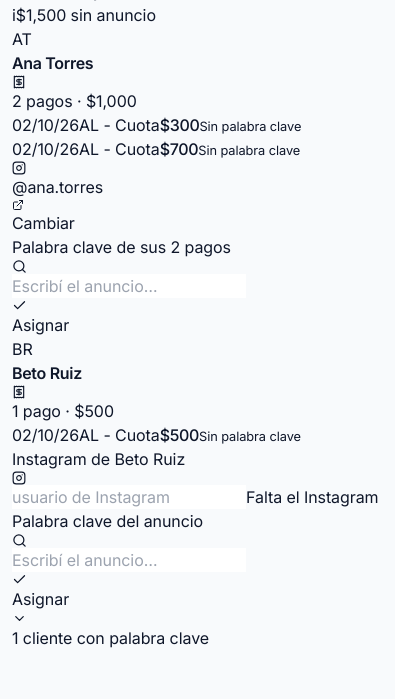
Test: Mis agendas › Ventas sin palabra clave › una palabra clave equivocada se cambia desde la lista de las que ya tienen
Click the button "1 cliente con palabra clave".
click(110, 630)  # box [12, 611, 209, 650]
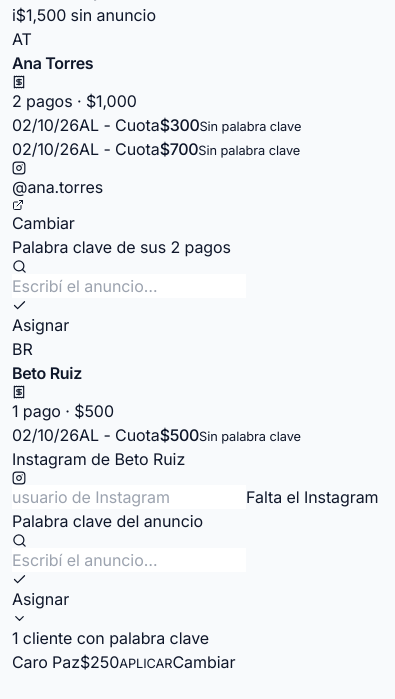
Click the button with aria-label "Cambiar la palabra clave de Caro Paz".
click(204, 662)  # box [172, 650, 235, 674]
(page scrolled)
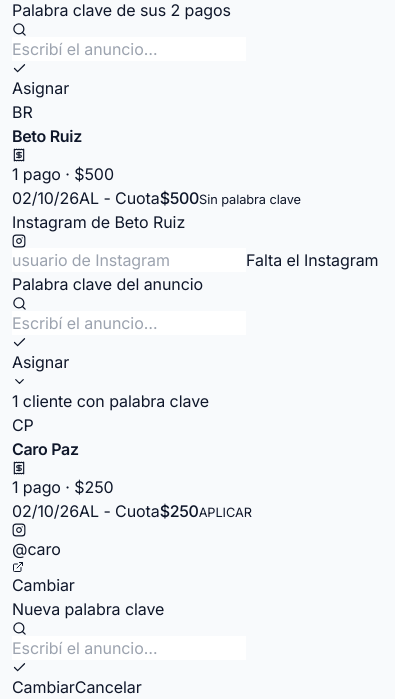
Type keys "guia{Enter}"
(page scrolled)
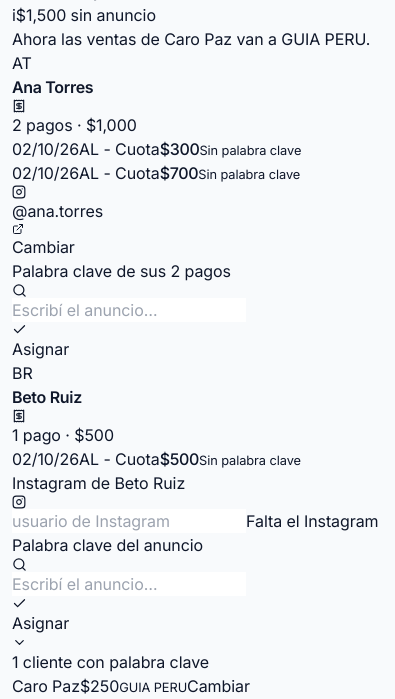
Check: the button "1 cliente con palabra clave" is shown, box [12, 635, 209, 674]
Check: the text "GUIA PERU" is shown, box [119, 680, 187, 695]
